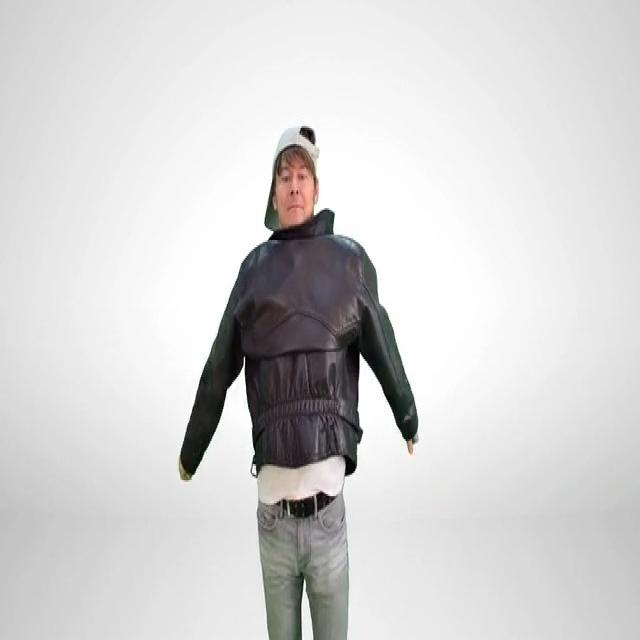Jacket_Wearer: (185, 245, 415, 485)
Person: (190, 105, 422, 640)
